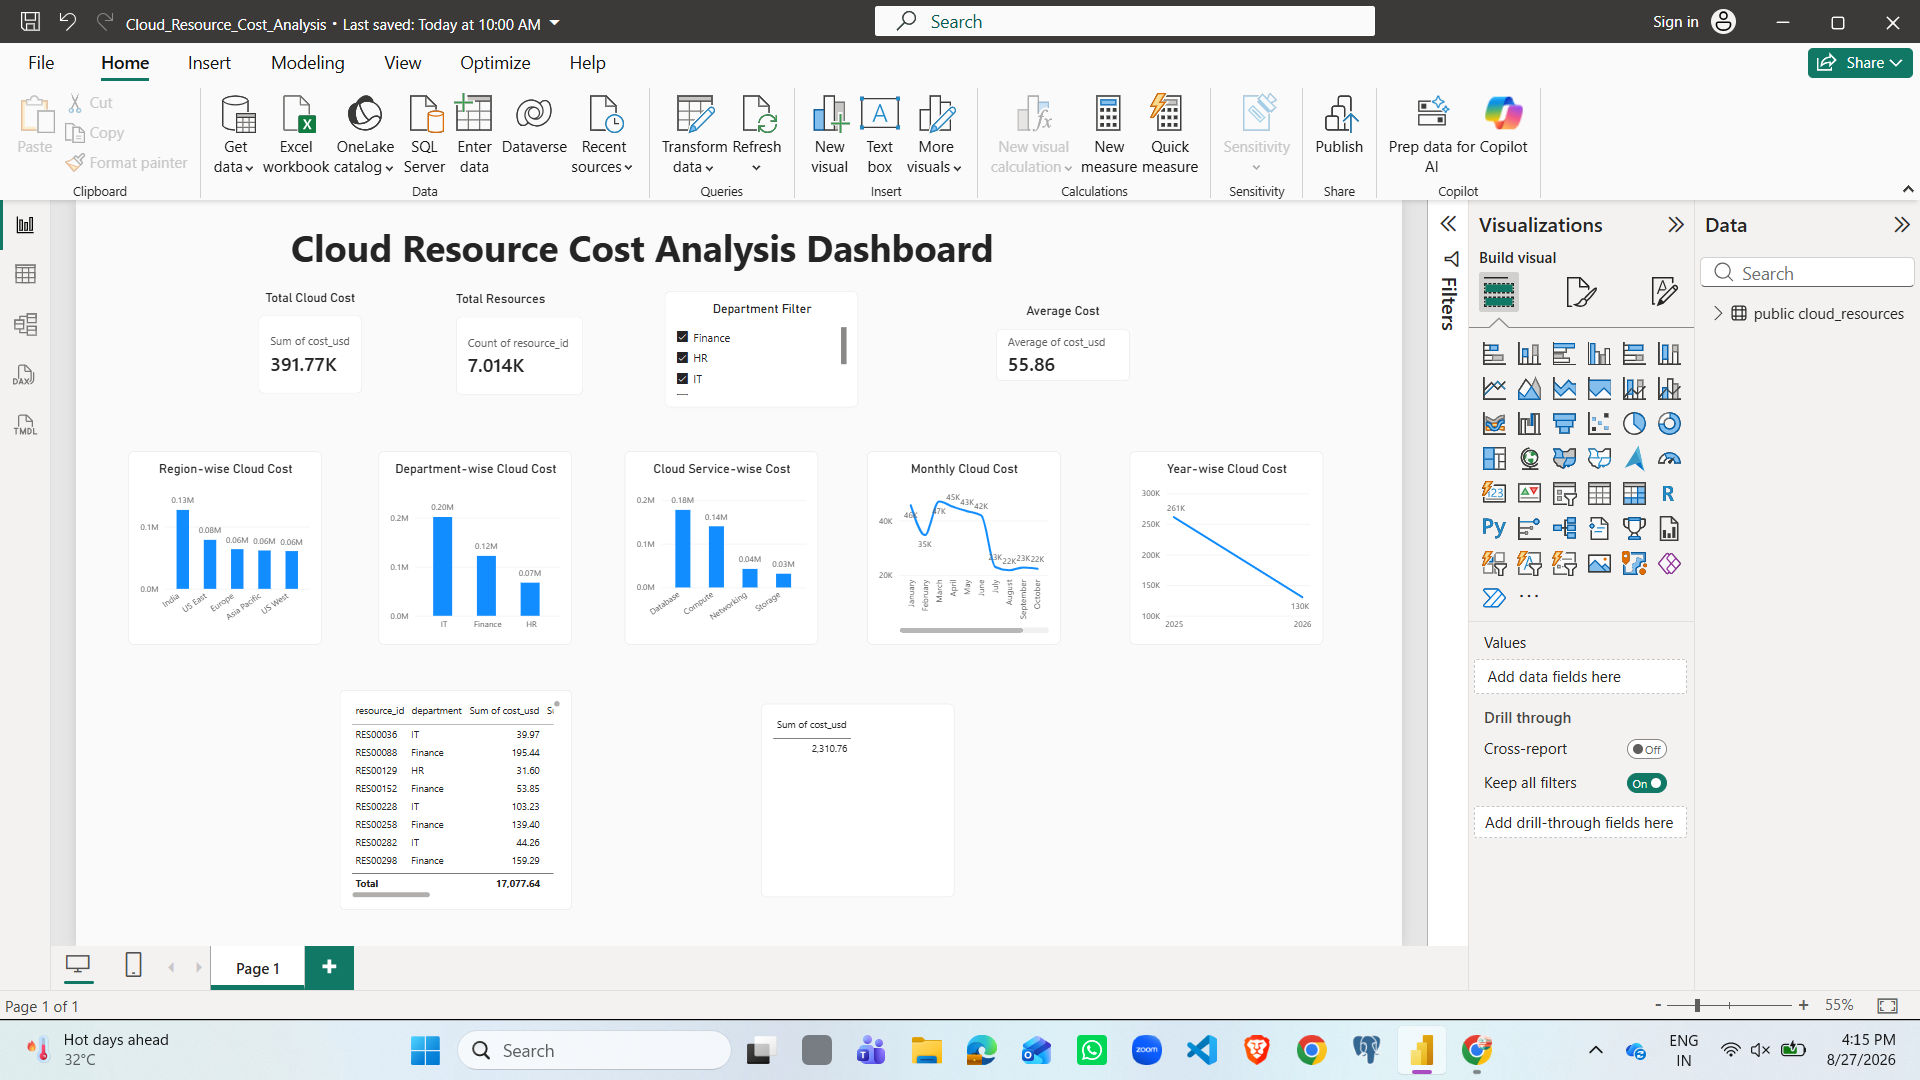

The dashboard page shown, as its layout file describes it:
{"tool":"powerbi","page":{"name":"Page 1","canvas":[1920,1080],"ordinal":0},"visuals":[{"type":"clusteredColumnChart","title":"Department-wise Cloud Cost","fields":{"Category":["public cloud_resources.department"],"Y":["Sum(public cloud_resources.cost_usd)"]},"box":[436.1,398.1,280,280],"z":0},{"type":"clusteredColumnChart","title":"Cloud Service-wise Cost","fields":{"Category":["public cloud_resources.cloud_service"],"Y":["Sum(public cloud_resources.cost_usd)"]},"box":[790.8,414.4,280,280],"z":1000},{"type":"clusteredColumnChart","title":"Region-wise Cloud Cost","fields":{"Category":["public cloud_resources.region"],"Y":["Sum(public cloud_resources.cost_usd)"]},"box":[57.9,399.9,280,280],"z":2000},{"type":"lineChart","title":"Year-wise Cloud Cost","fields":{"Category":["public cloud_resources.date.Variation.Date Hierarchy.Year","public cloud_resources.date.Variation.Date Hierarchy.Quarter","public cloud_resources.date.Variation.Date Hierarchy.Month","public cloud_resources.date.Variation.Date Hierarchy.Day"],"Y":["Sum(public cloud_resources.cost_usd)"]},"box":[1550.9,414.4,280,280],"z":3000},{"type":"tableEx","fields":{"Values":["Sum(public cloud_resources.cost_usd)"]},"box":[1245,760.1,280,280],"z":4000},{"type":"tableEx","fields":{"Values":["public cloud_resources.resource_id","public cloud_resources.department","Sum(public cloud_resources.cost_usd)","Sum(public cloud_resources.cpu_usage_percent)","Sum(public cloud_resources.memory_usage_percent)","public cloud_resources.cloud_service"]},"box":[173.7,722.1,807.1,318.5],"z":5000},{"type":"textbox","box":[174,32,1292,108],"z":6000},{"type":"cardVisual","title":"Total Cloud Cost","fields":{"Data":["Sum(public cloud_resources.cost_usd)"]},"box":[137.5,186.4,150,150],"z":7000},{"type":"cardVisual","title":"Total  Resources","fields":{"Data":["CountNonNull(public cloud_resources.resource_id)"]},"box":[483.2,188.2,184,150],"z":8000},{"type":"cardVisual","title":"Average Cost","fields":{"Data":["Avg(public cloud_resources.cost_usd)"]},"box":[1331.9,150.2,194,112],"z":9000},{"type":"listSlicer","title":"Department Filter","fields":{"Values":["public cloud_resources.department"]},"box":[850.5,132.1,282.3,266],"z":10000},{"type":"lineChart","title":"Monthly Cloud Cost","fields":{"Category":["public cloud_resources.date.Variation.Date Hierarchy.Month"],"Y":["Sum(public cloud_resources.cost_usd)"]},"box":[1149.1,412.6,334.8,280.5],"z":11000}]}

Visuals, with their boxes on the page's 1920x1080 design canvas (x1, y1, x2, y2). These are canvas units, not pixel positions in the 1920x1080 screenshot, which may show the page scaled, cropped or inside an application window:
"Department-wise Cloud Cost" clusteredColumnChart: 436:398:716:678
"Cloud Service-wise Cost" clusteredColumnChart: 791:414:1071:694
"Region-wise Cloud Cost" clusteredColumnChart: 58:400:338:680
"Year-wise Cloud Cost" lineChart: 1551:414:1831:694
tableEx - Sum(public cloud_resources.cost_usd): 1245:760:1525:1040
tableEx - public cloud_resources.resource_id x public cloud_resources.department: 174:722:981:1041
textbox: 174:32:1466:140
"Total Cloud Cost" cardVisual: 138:186:288:336
"Total  Resources" cardVisual: 483:188:667:338
"Average Cost" cardVisual: 1332:150:1526:262
"Department Filter" listSlicer: 850:132:1133:398
"Monthly Cloud Cost" lineChart: 1149:413:1484:693
